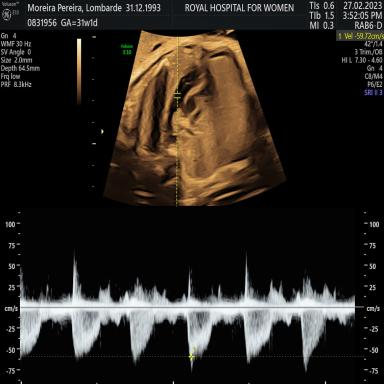Ultrasound-Waves: (21, 218, 354, 368)
